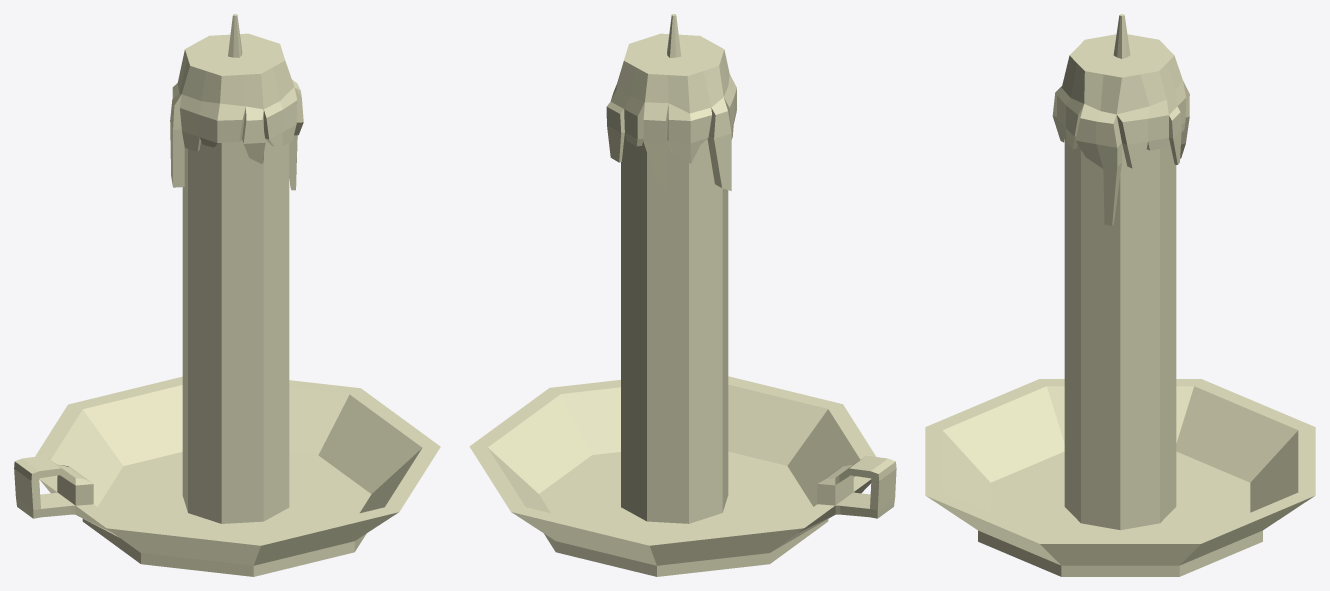
File: Kaars_v001.fbx
3 renders of one model, left to right at view 1: azimuth 30°, elevation 25°; view 2: azimuth 150°, elevation 25°; view 3: azimuth 270°, elevation 25°, orthographic.
Parts seen in each view (by area): view 1: Holder, Base, Top; view 2: Holder, Base, Top; view 3: Holder, Base, Top.
Boxes of the visible parts, x1,y1,x2,y2 form: Holder: (14,376,440,576); Base: (182,139,289,523); Top: (170,14,303,190); Holder: (469,376,896,576); Base: (621,133,728,523); Top: (606,14,736,193); Holder: (925,379,1315,576); Base: (1064,138,1176,530); Top: (1052,14,1189,225).
Bounding box in the file's own units: 789 × 991 × 698.
